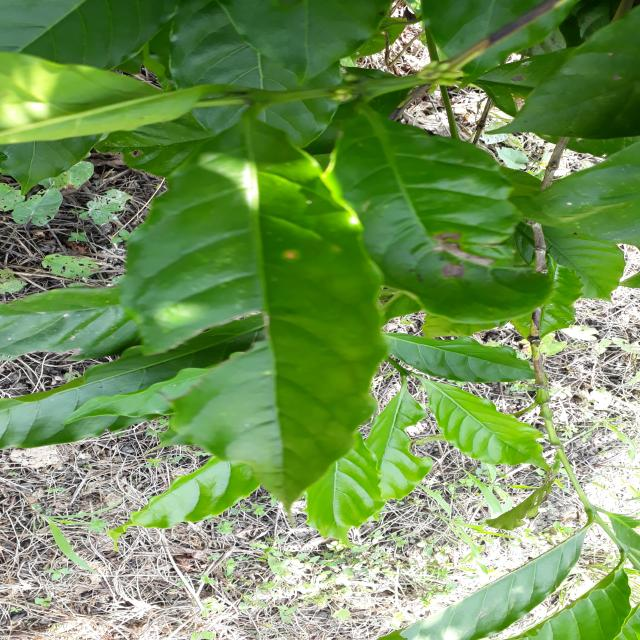Enfermedad-Roya: (134, 126, 373, 501)
